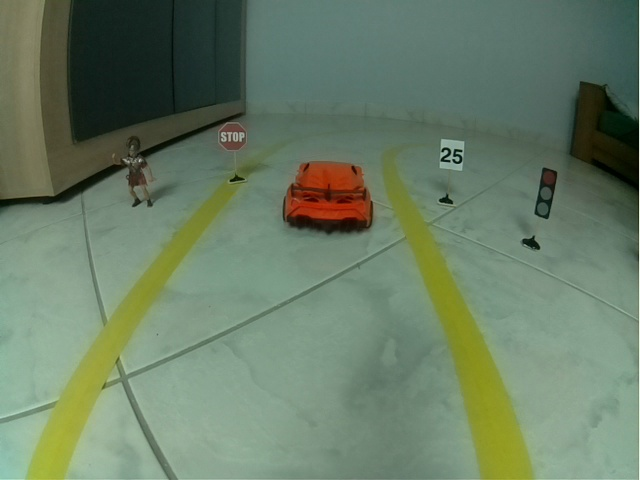Lambo: (282, 160, 374, 236)
Person: (111, 135, 156, 208)
Red Traffic Light: (534, 167, 558, 221)
Speed Limit 25: (439, 138, 466, 172)
Stop: (217, 121, 248, 152)
